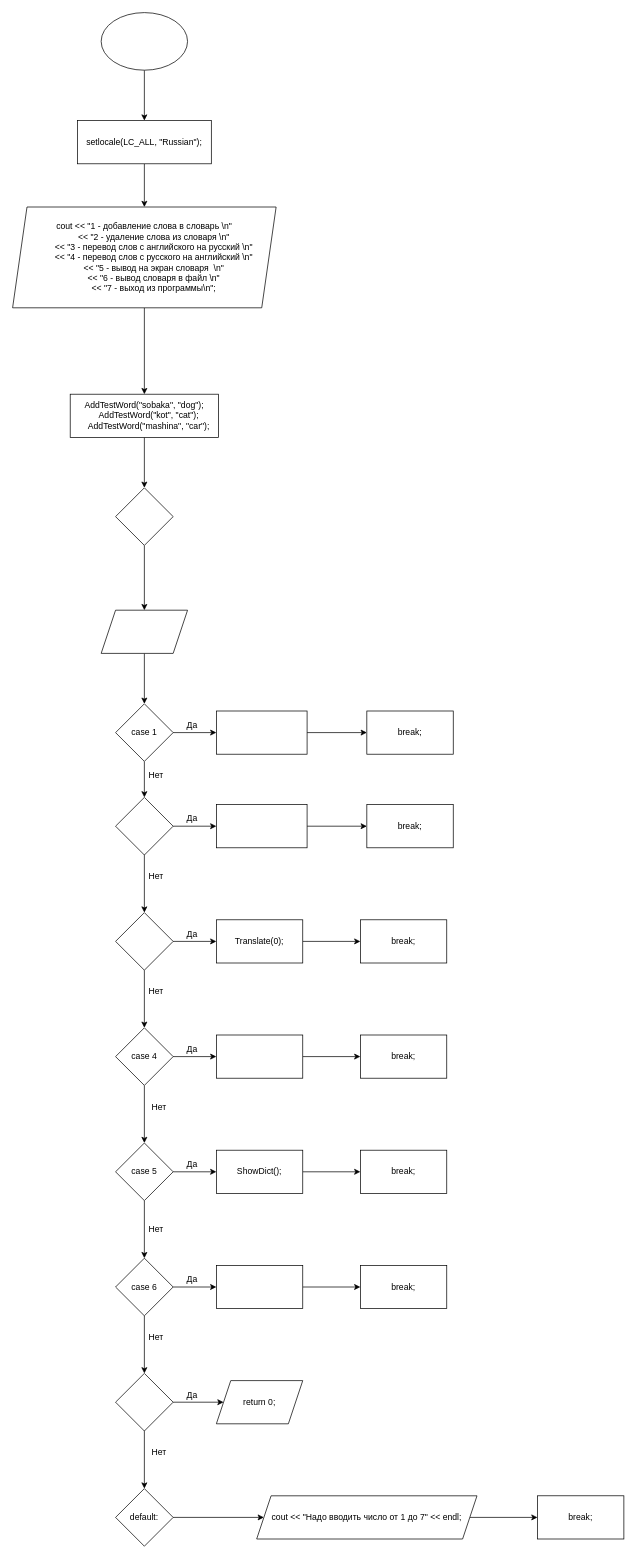
Some shapes in this 636 by 1559 pixel diagram are drawn without their labels. Each missing label, with the box of its shape:
AddWord();: (216, 710, 307, 754)
case 2: (115, 797, 173, 855)
case 3: (115, 912, 173, 970)
case 7: (115, 1373, 173, 1431)
Menu(): (100, 609, 188, 653)
PrintDict();: (216, 1265, 303, 1309)
RemoveWord();: (216, 804, 307, 848)
Translate(1);: (216, 1034, 303, 1078)
true: (115, 487, 173, 545)
Начало: (100, 12, 188, 70)
